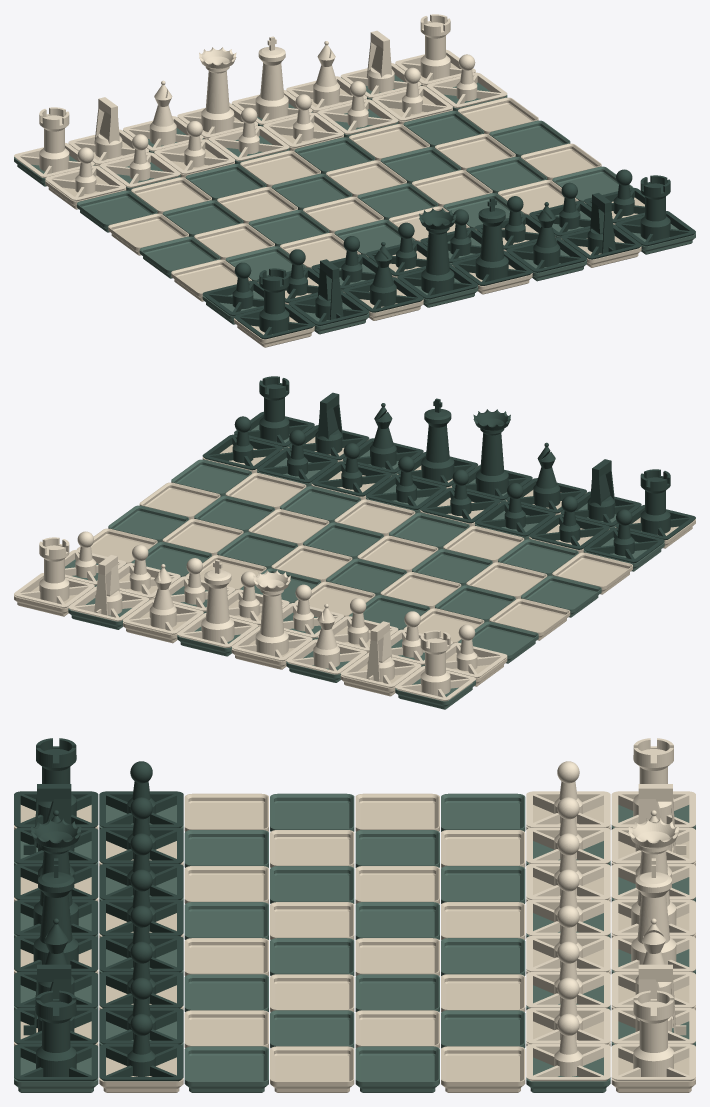
3 renders of one model, top to bottom at view 1: azimuth 30°, elevation 25°; view 2: azimuth 150°, elevation 25°; view 3: azimuth 270°, elevation 25°, orthographic. The views are drawn at different scales.
Bounding box in the file's own units: 0.2516 × 0.0447 × 0.2516.
